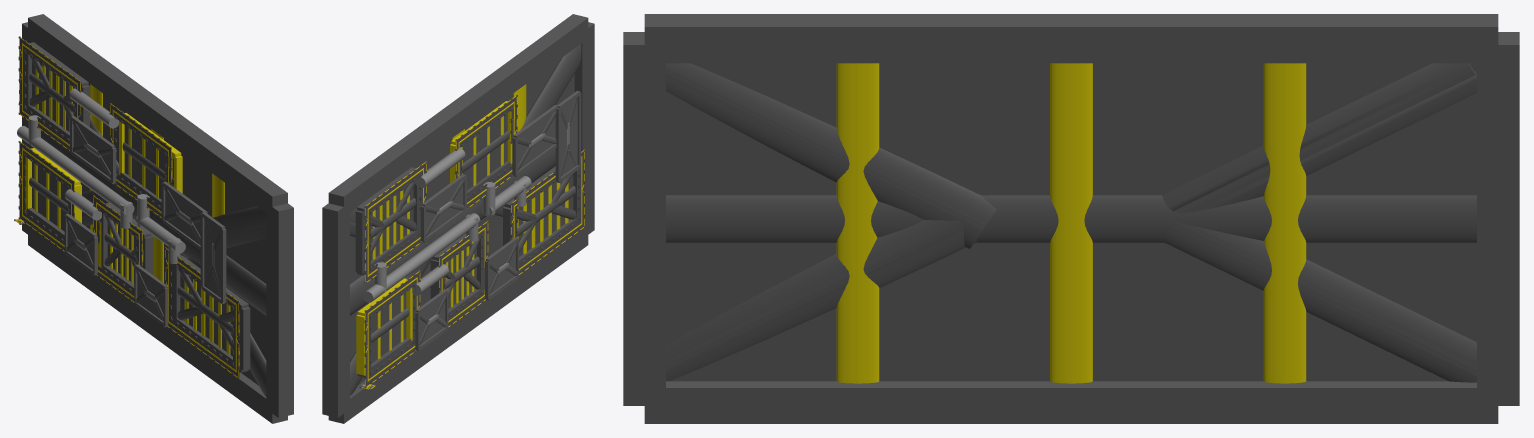
The model's file is facility attempt.fbx.
The picture shows the model from 3 angles, left to right: view 1: azimuth 30°, elevation 25°; view 2: azimuth 150°, elevation 25°; view 3: azimuth 270°, elevation 25°; orthographic projection. The views are drawn at different scales.
Visible parts, largest first — view 1: Cylinder.005, Cylinder.011, Cylinder.009, Cube.002, Cube.001, Cylinder.010, Cylinder.016, Connector plate bend.112, Cylinder.014, Cylinder.015, Cylinder.003, Connector plate.019 (+9 smaller); view 2: Cylinder.005, Cylinder.011, Cylinder.009, Cube.001, Cube.002, Cylinder.010, Cylinder.016, Cylinder.015, Cylinder.014, Connector plate bend.112, Connector plate.019, Cylinder.003 (+10 smaller); view 3: Cylinder.005.
Part boxes in pixels (x1,y1,x2,y2): Cylinder.005: (22,14,293,423); Cylinder.011: (173,255,250,372); Cylinder.009: (25,42,89,139); Cube.002: (119,113,182,206); Cube.001: (25,148,81,240); Cylinder.010: (101,202,153,291); Cylinder.016: (200,212,226,304); Connector plate bend.112: (165,247,239,379); Cylinder.014: (70,116,116,183); Cylinder.015: (161,181,207,250); Cylinder.003: (17,126,134,214); Connector plate.019: (18,36,81,150); Cylinder.005: (322,14,594,423); Cylinder.011: (503,166,578,263); Cylinder.009: (355,167,419,275); Cube.001: (356,278,412,377); Cube.002: (450,101,512,197); Cylinder.010: (430,227,483,316); Cylinder.016: (555,91,581,182); Cylinder.015: (512,105,557,176); Cylinder.014: (420,174,466,242); Connector plate bend.112: (510,149,585,274); Connector plate.019: (364,161,426,283); Cylinder.003: (362,213,480,302); Cylinder.005: (623,14,1519,423).
Size of the model in its own units: 684 by 4069 by 8331.
